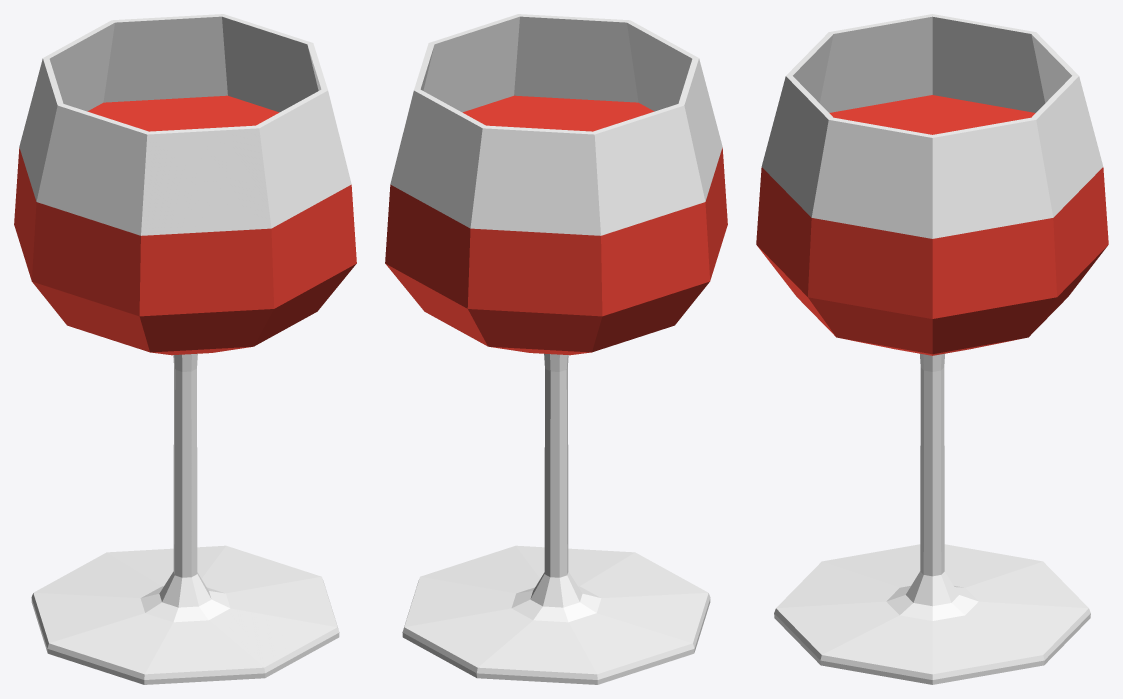
The model's file is Glass of wine.glb.
The picture shows the model from 3 angles, left to right: view 1: azimuth 30°, elevation 25°; view 2: azimuth 150°, elevation 25°; view 3: azimuth 270°, elevation 25°; orthographic projection.
Visible parts, largest first — view 1: Circle.010; view 2: Circle.010; view 3: Circle.010.
Part boxes in pixels (x1,y1,x2,y2): Circle.010: (14, 14, 356, 684); Circle.010: (385, 14, 727, 684); Circle.010: (756, 14, 1108, 684).
Bounding box in the file's own units: 5.87 × 9.96 × 5.87.
